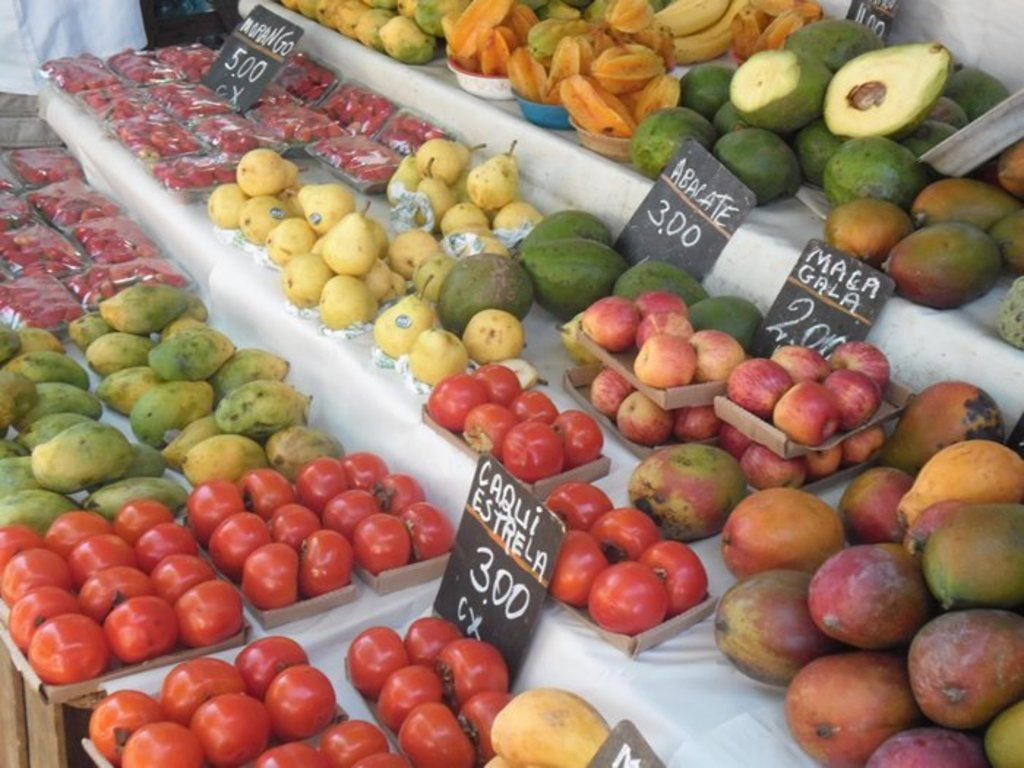Apple: (804, 544, 930, 655), (773, 386, 838, 441), (633, 336, 699, 389), (820, 337, 892, 383), (731, 359, 789, 416), (579, 292, 634, 352), (690, 321, 740, 383), (617, 392, 674, 444), (741, 446, 807, 487), (827, 367, 873, 422), (636, 310, 696, 352), (781, 343, 829, 383), (593, 370, 634, 411), (671, 405, 715, 437), (634, 291, 687, 317), (838, 431, 882, 459), (716, 424, 751, 457), (804, 447, 839, 478)
